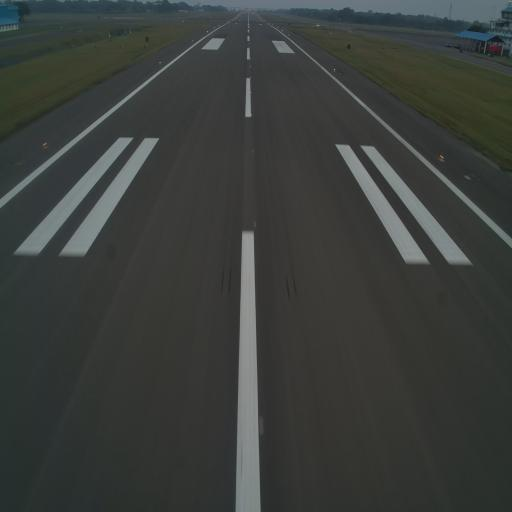off: (250, 219, 259, 231), (250, 144, 256, 157)
on: (436, 148, 446, 163), (42, 138, 49, 148), (158, 59, 162, 66), (250, 112, 254, 117), (249, 75, 253, 80), (333, 68, 336, 73), (250, 90, 252, 97), (249, 64, 252, 68)
